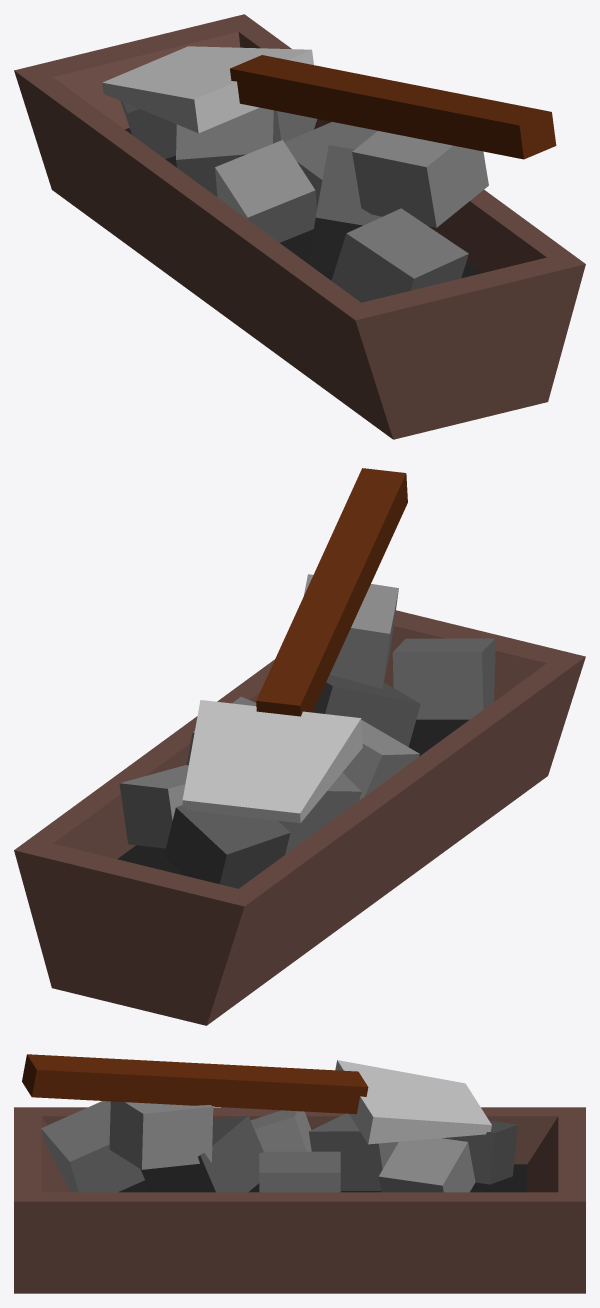
Rendered from Blacksmith Tool 02.FBX.
3 views of the same model, one above another, from view 1: azimuth 30°, elevation 25°; view 2: azimuth 150°, elevation 25°; view 3: azimuth 270°, elevation 25° (orthographic). The views are drawn at different scales.
Parts seen in each view (by area): view 1: Blacksmith Tool 02; view 2: Blacksmith Tool 02; view 3: Blacksmith Tool 02.
Part boxes in pixels (x1,y1,x2,y2): Blacksmith Tool 02: (14, 14, 585, 439); Blacksmith Tool 02: (14, 468, 585, 1025); Blacksmith Tool 02: (14, 1054, 585, 1293).
Size of the model in its own units: 60.88 by 69.61 by 156.
